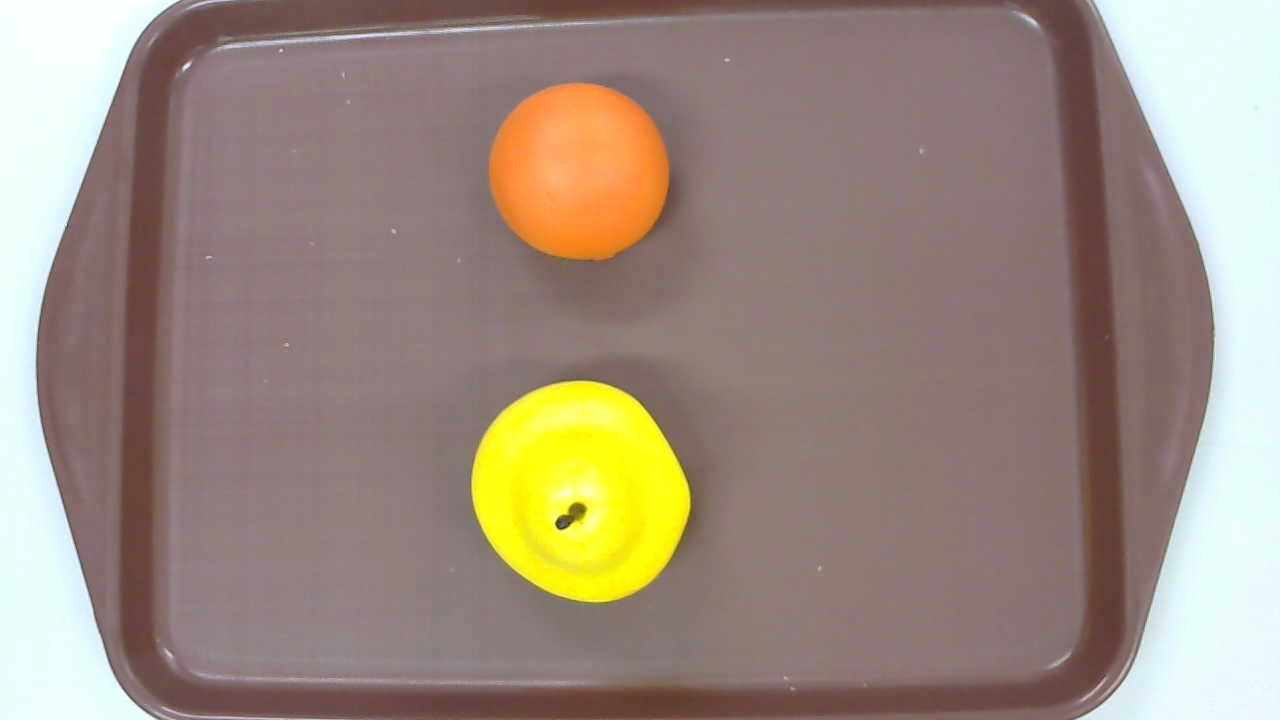bun: (487, 83, 671, 262)
yellow pear: (470, 379, 693, 603)
